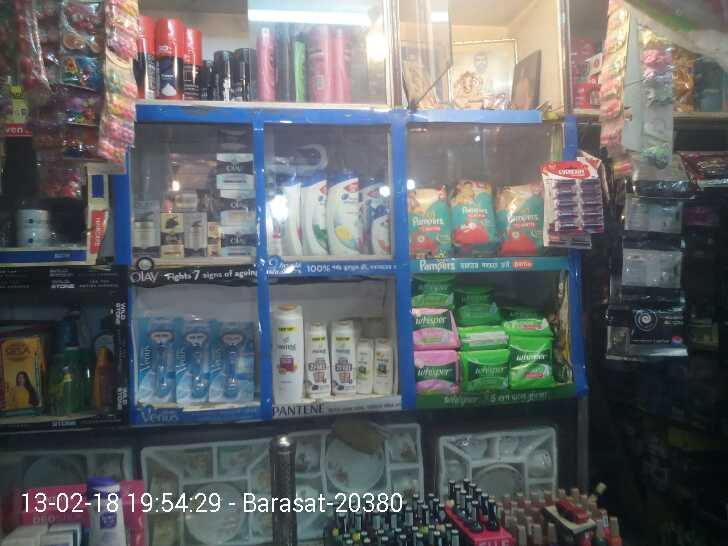gillete: (135, 13, 160, 100), (160, 18, 185, 100), (186, 25, 199, 100), (218, 60, 235, 98)
venus: (210, 316, 257, 398), (140, 315, 175, 405), (175, 315, 210, 398)
